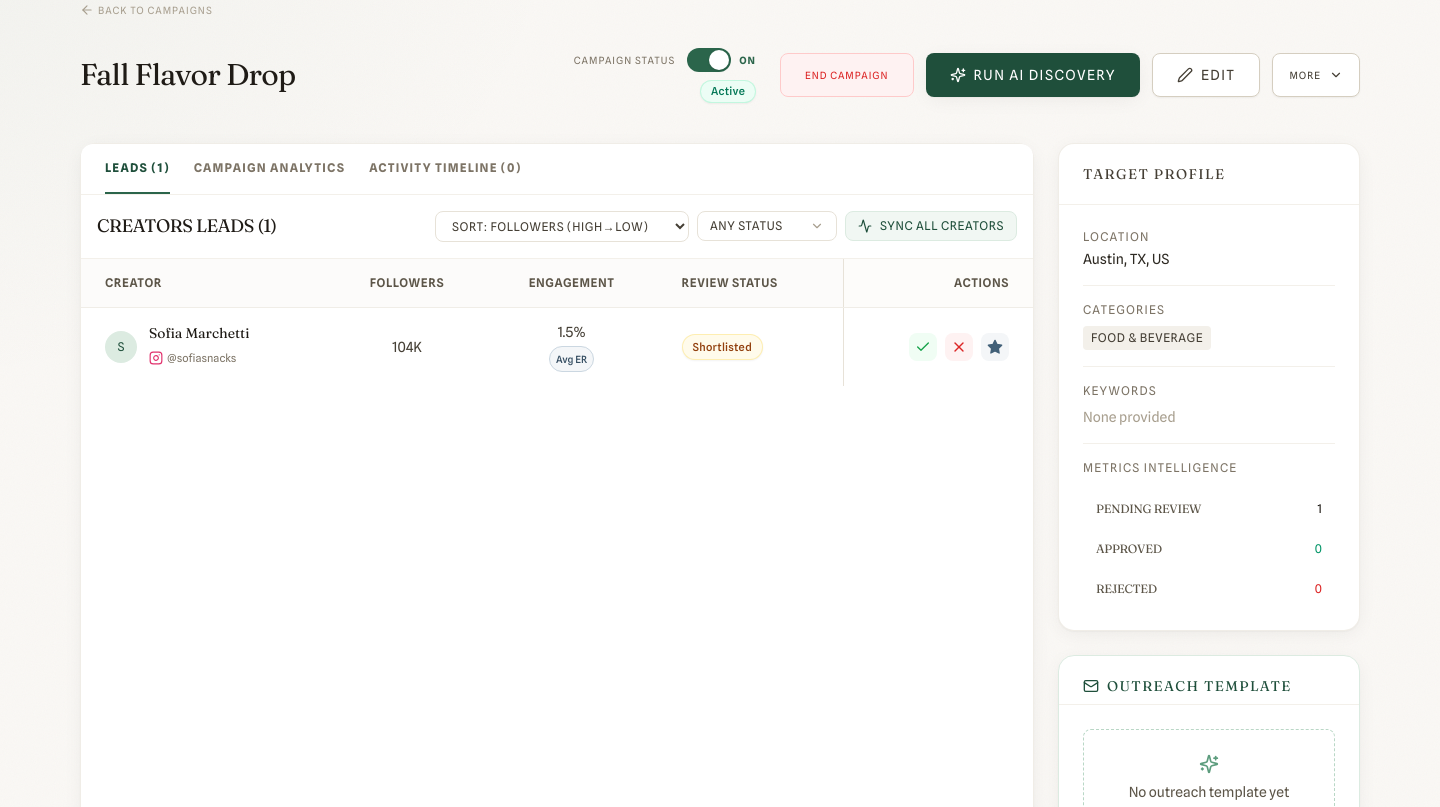
Test: CampaignDetail header actions › Edit sits with the header actions and opens the edit form
Expected: the button "Edit campaign" is not shown
Click the button with aria-label "Edit campaign".
click(1206, 75)  # box x1=1152 y1=53 x2=1260 y2=97
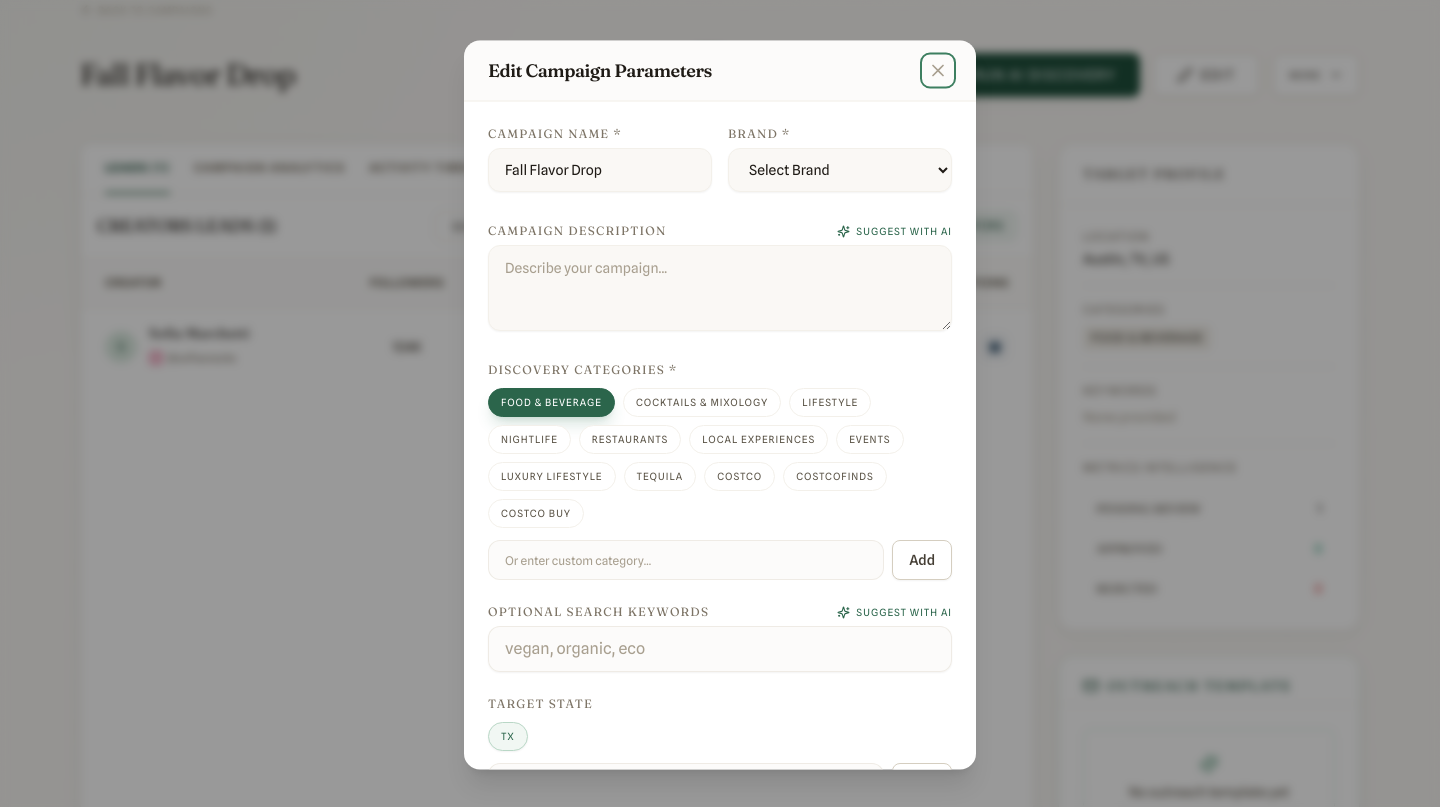
Expected: the dialog "Edit Campaign Parameters" is shown, x1=464 y1=40 x2=976 y2=770
